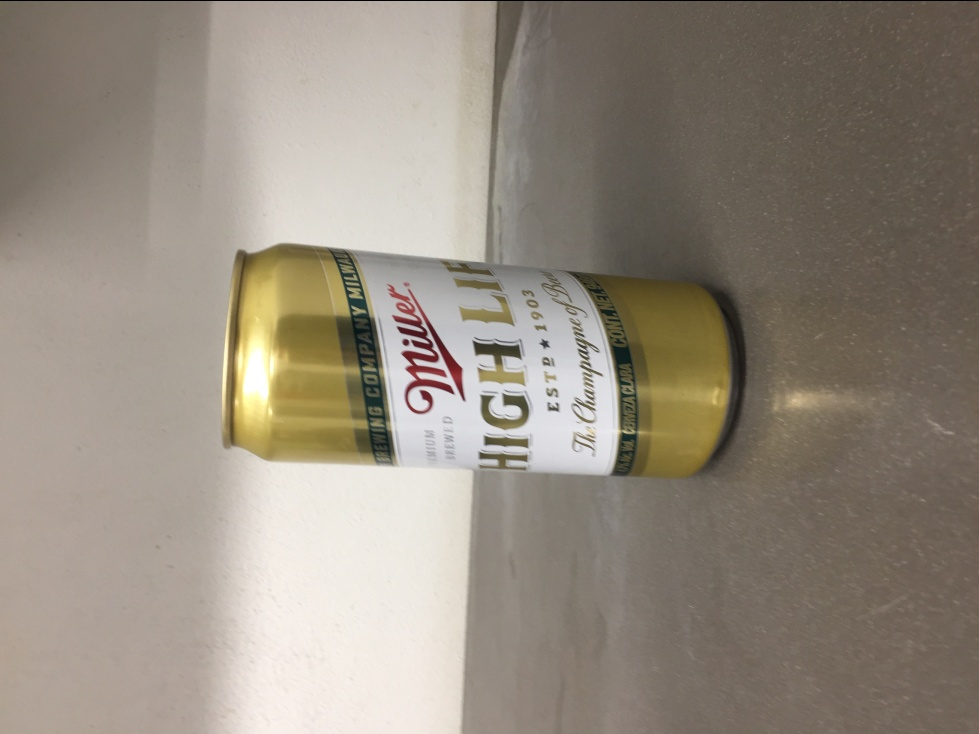miller: (220, 241, 738, 483)
